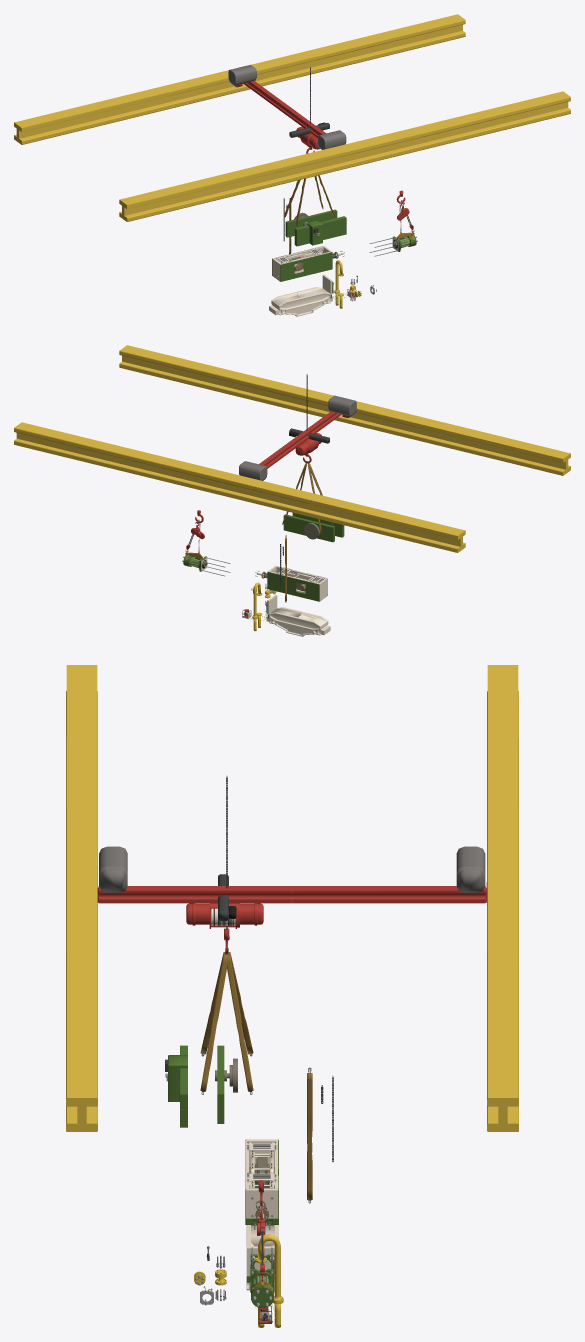
File: hypercompresser_model3d_save04.fbx
3 renders of one model, top to bottom at view 1: azimuth 30°, elevation 25°; view 2: azimuth 150°, elevation 25°; view 3: azimuth 270°, elevation 25°, orthographic. The views are drawn at different scales.
Parts seen in each view (by area): view 1: Cube.058, Cube.060, Cube.068, Cube.085, left.001, Cube.072, right.001; view 2: Cube.060, Cube.058, Cube.068, Cube.085, Cube.072, right.001; view 3: Cube.058, Cube.060, Cube.068, Cube.062, left.001, Cube.064, Cube.054, Cube.023.
Part boxes in pixels (<box>): Cube.058: <box>119,91,570,221</box>; Cube.060: <box>14,14,465,144</box>; Cube.068: <box>228,65,346,149</box>; Cube.085: <box>269,287,332,316</box>; left.001: <box>294,216,346,246</box>; Cube.072: <box>272,246,332,281</box>; right.001: <box>285,209,337,237</box>; Cube.060: <box>14,422,465,552</box>; Cube.058: <box>119,345,570,475</box>; Cube.068: <box>239,395,356,480</box>; Cube.085: <box>266,607,330,636</box>; Cube.072: <box>267,567,325,601</box>; right.001: <box>283,514,334,542</box>; Cube.058: <box>66,665,97,1131</box>; Cube.060: <box>487,665,518,1131</box>; Cube.068: <box>97,846,487,903</box>; Cube.062: <box>186,903,263,928</box>; left.001: <box>168,1045,187,1127</box>; Cube.064: <box>246,1188,278,1224</box>; Cube.054: <box>225,950,253,1094</box>; Cube.023: <box>200,949,228,1094</box>.
Size of the model in its own units: 36691 by 20251 by 16222.
